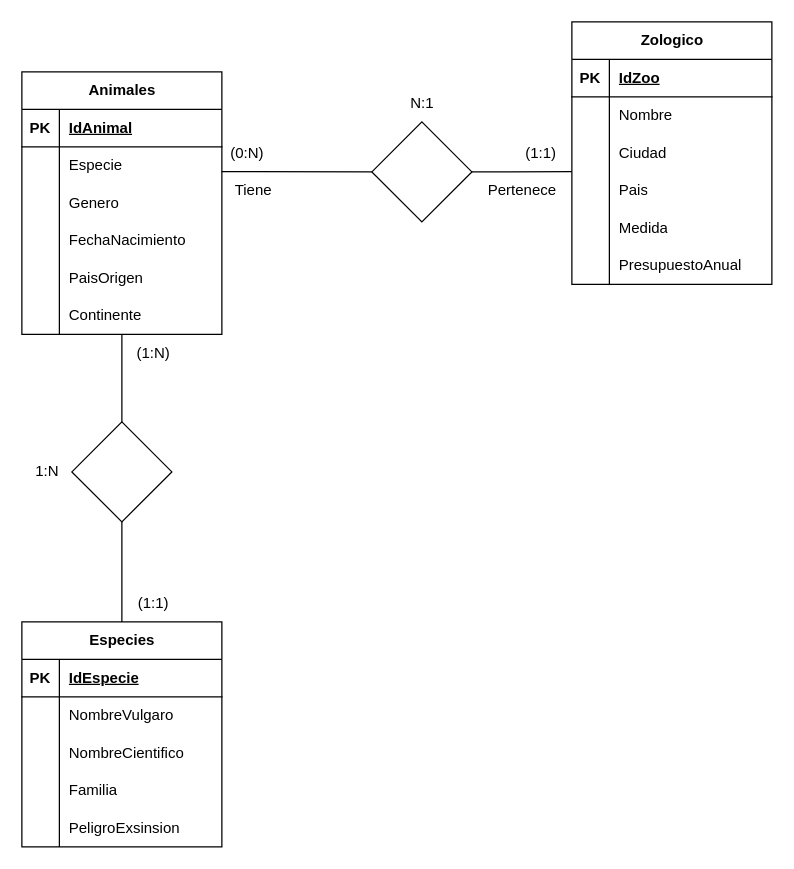
Image size: 794x869. Some labels were removed from this diagram. The shapes that lost their labels are listed below. From the top down, each one's centre as x and y in pixels, then its label:
At point 421,171: "ID ------------- -".
At point 121,471: "EX ------------- -".
